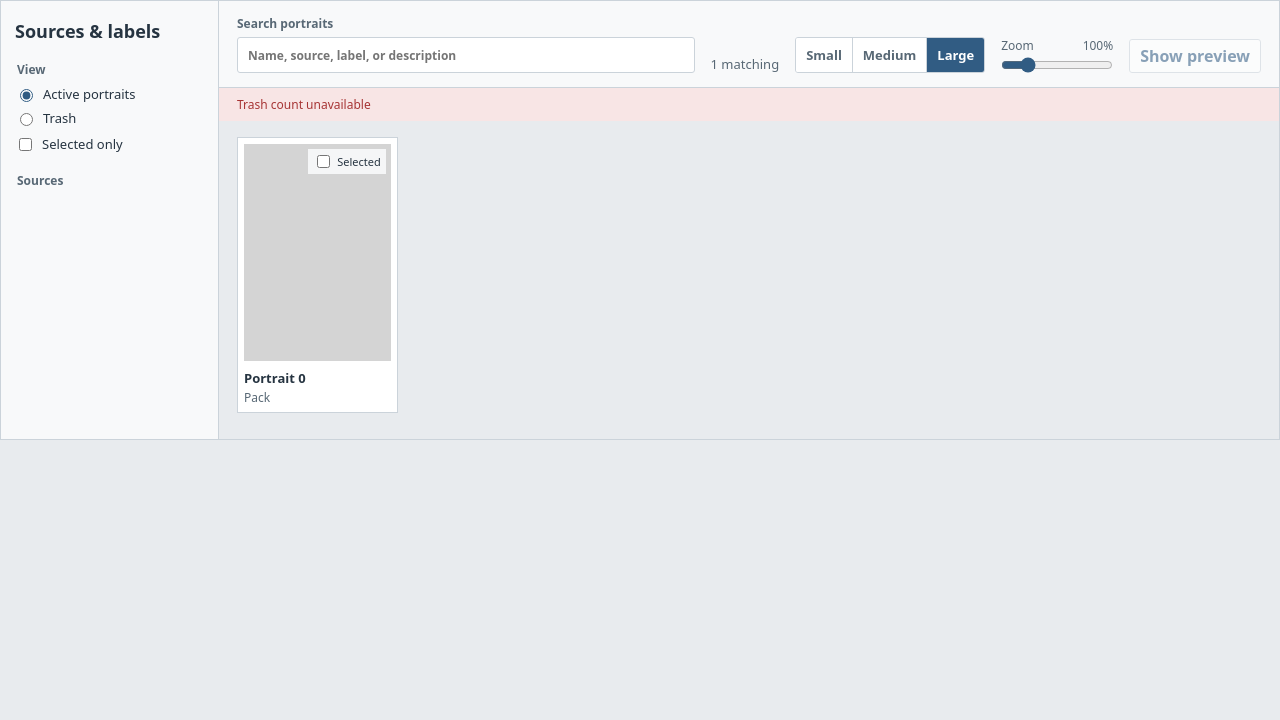
Scenario: keeps empty-trash unavailable and surfaces a full-trash-count failure
Expected: the message reads "Trash count unavailable", [237, 96, 371, 113]
Click the radio button labelled "Trash" at (26, 120), box [20, 113, 33, 126]
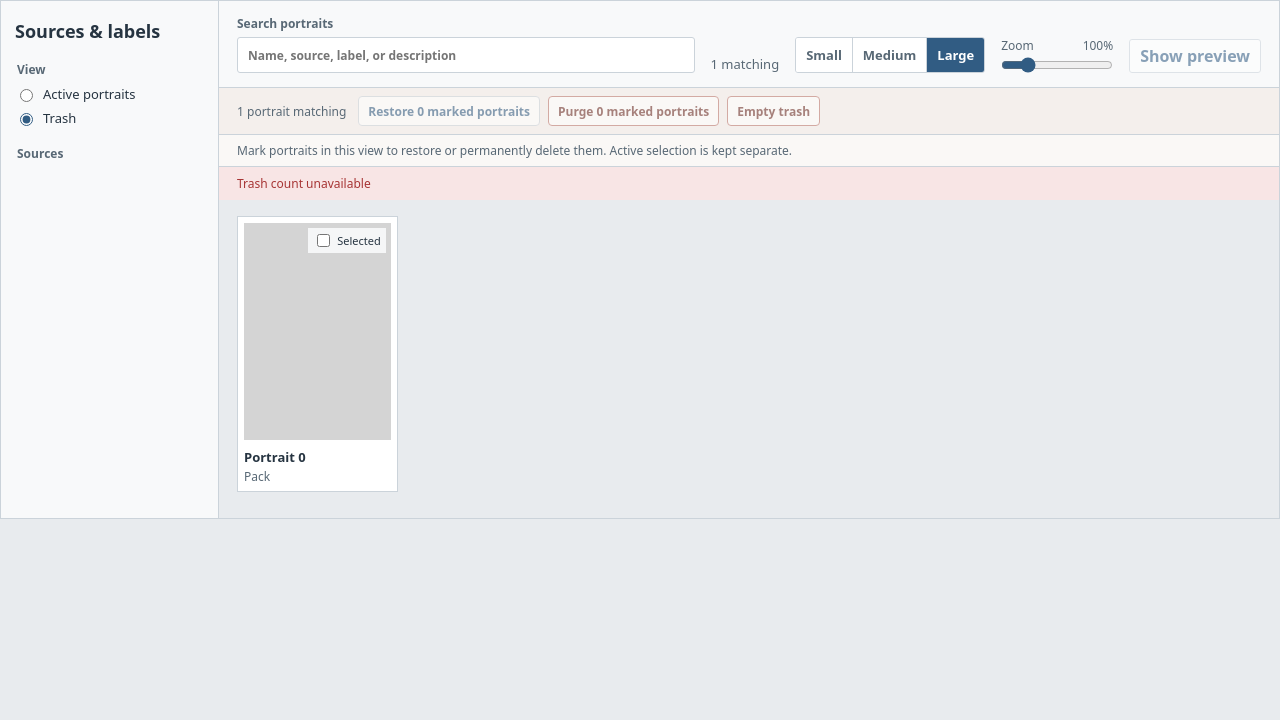
Expected: the button "Empty trash" is disabled, [727, 96, 820, 126]
